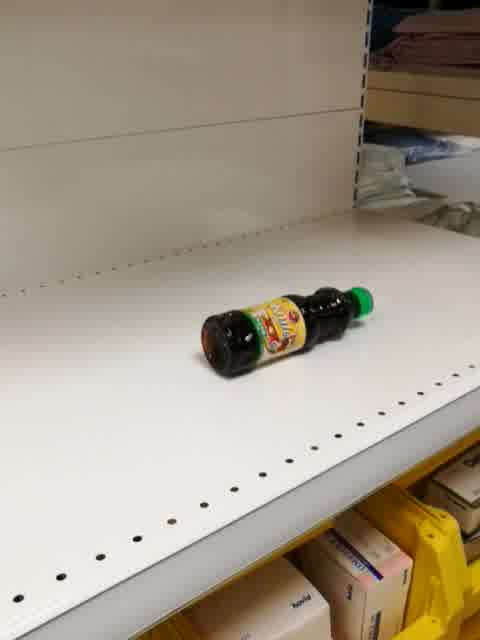cookingoil: (197, 285, 376, 381)
